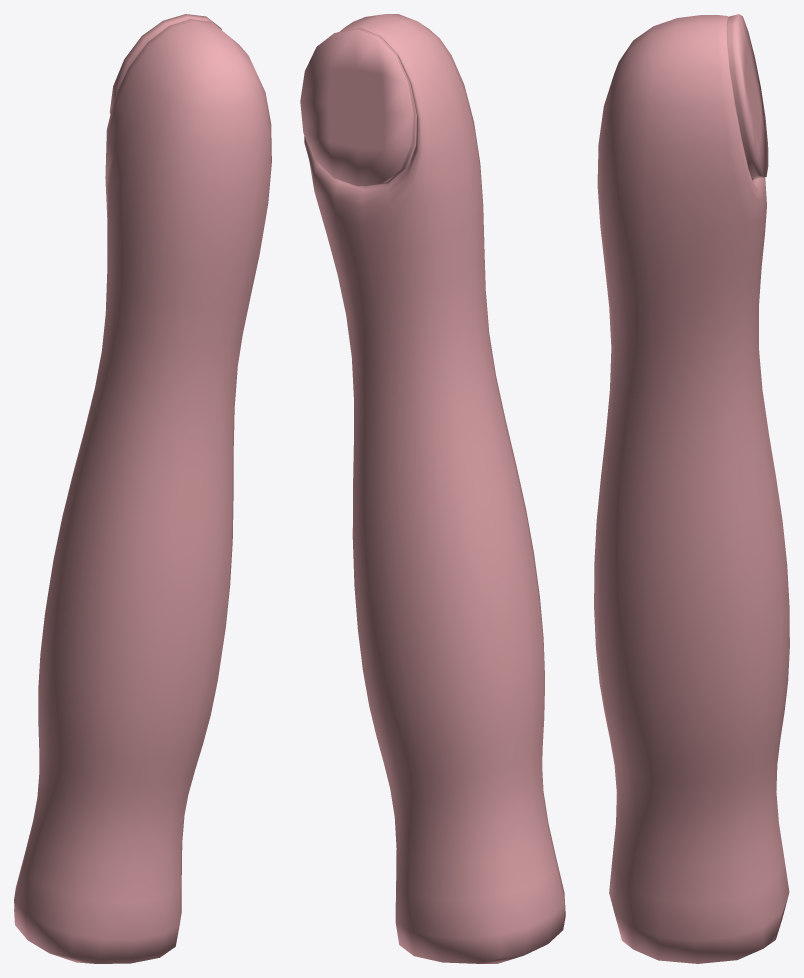
The model's file is finger.002.fbx.
The picture shows the model from 3 angles, left to right: view 1: azimuth 30°, elevation 25°; view 2: azimuth 150°, elevation 25°; view 3: azimuth 270°, elevation 25°; orthographic projection. The views are drawn at different scales.
Parts seen in each view (by area): view 1: finger.002; view 2: finger.002; view 3: finger.002.
Boxes of the visible parts, x1=… form: finger.002: x1=14, y1=14, x2=271, y2=963; finger.002: x1=300, y1=14, x2=565, y2=963; finger.002: x1=594, y1=14, x2=789, y2=963.
Bounding box in the file's own units: 54.09 × 202 × 36.89.
